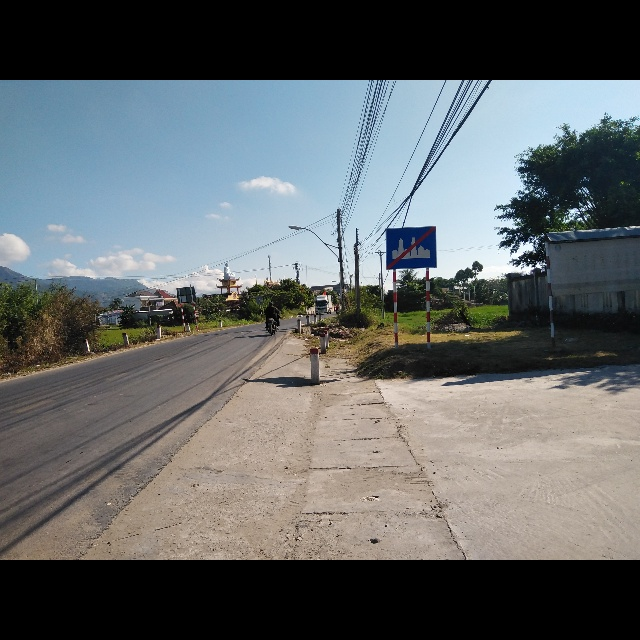Hết khu đông dân cư: (384, 225, 437, 268)
